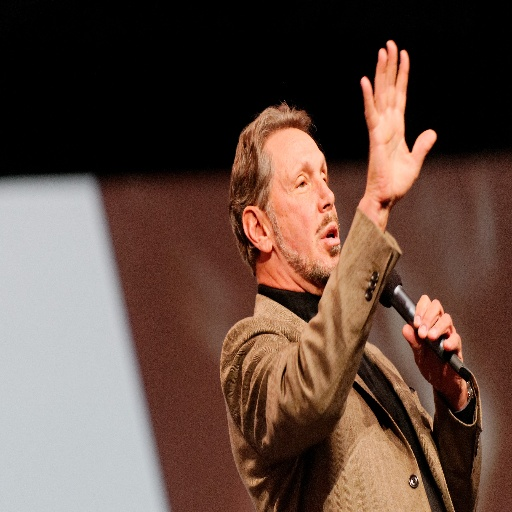hand: (360, 39, 438, 208), (397, 290, 473, 369)
